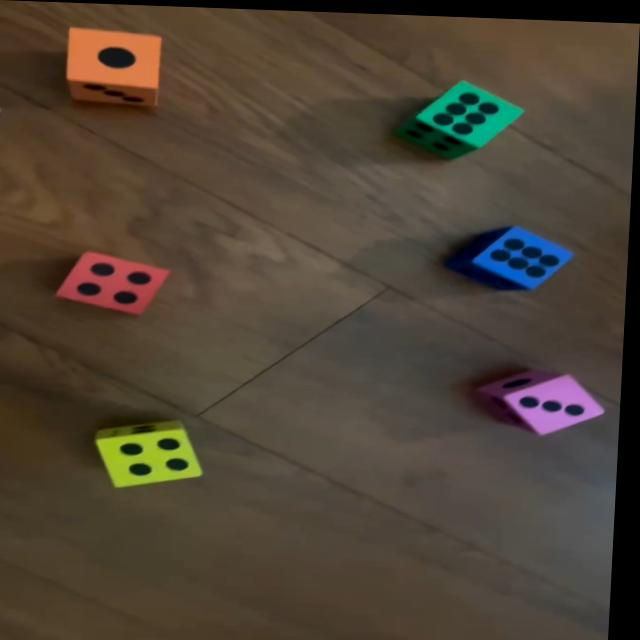blue_block: (450, 220, 575, 288)
red_block: (59, 251, 175, 314)
